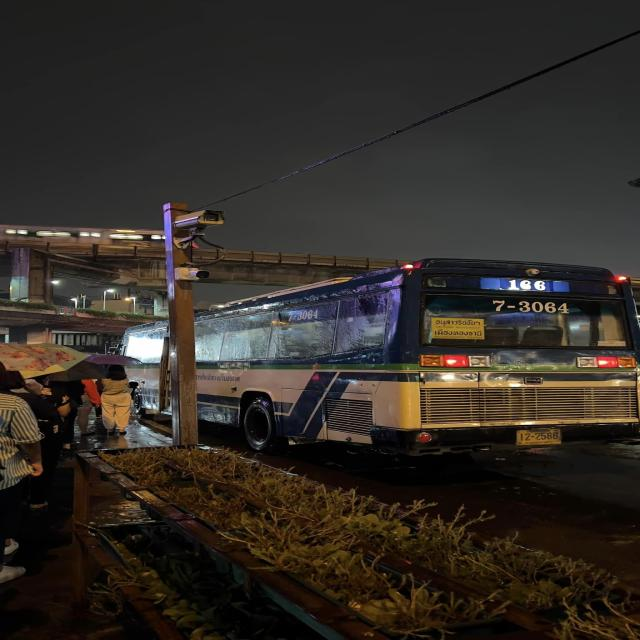BMTA-bus: (118, 256, 640, 462)
Bus-Line-Number: (497, 277, 557, 293)
Destination-Sign-Normal-Expressway: (430, 317, 488, 340)
